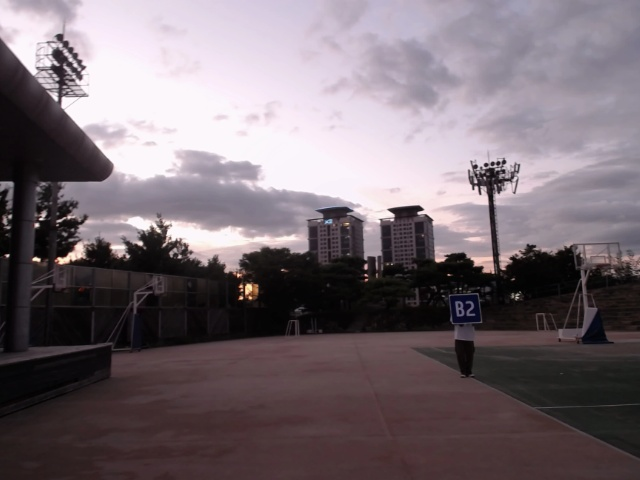delivery_b2: (449, 294, 483, 325)
